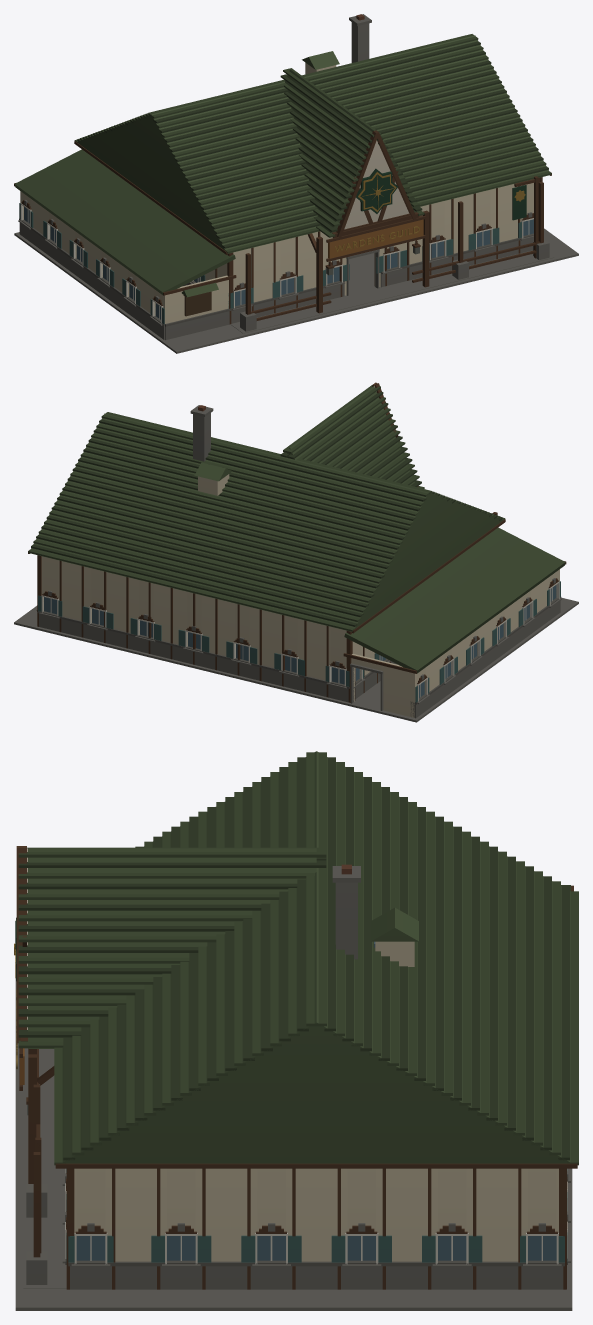
File: town_guild_hall.glb
The picture shows the model from 3 angles, top to bottom: view 1: azimuth 30°, elevation 25°; view 2: azimuth 150°, elevation 25°; view 3: azimuth 270°, elevation 25°; orthographic projection. The views are drawn at different scales.
Visible parts, largest first — view 1: prop; view 2: prop; view 3: prop.
Boxes of the visible parts, box(x1,y1,x2,y2) form: prop: box(14, 14, 578, 353); prop: box(14, 382, 578, 722); prop: box(14, 751, 578, 1310).
Size of the model in its own units: 26.52 by 12.57 by 18.78.
